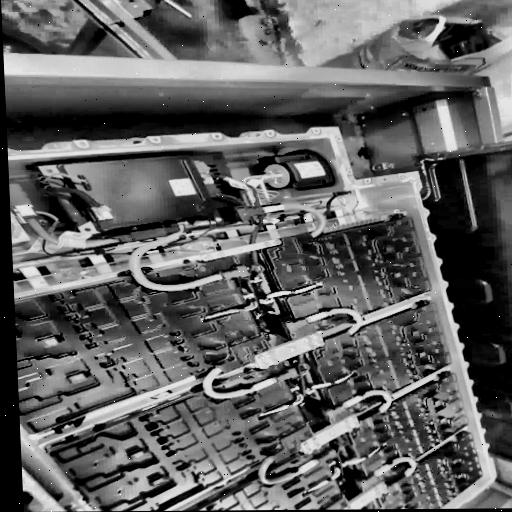high_volt_cable: (12, 209, 370, 347), (183, 359, 406, 426), (244, 449, 416, 492), (224, 194, 353, 241)
